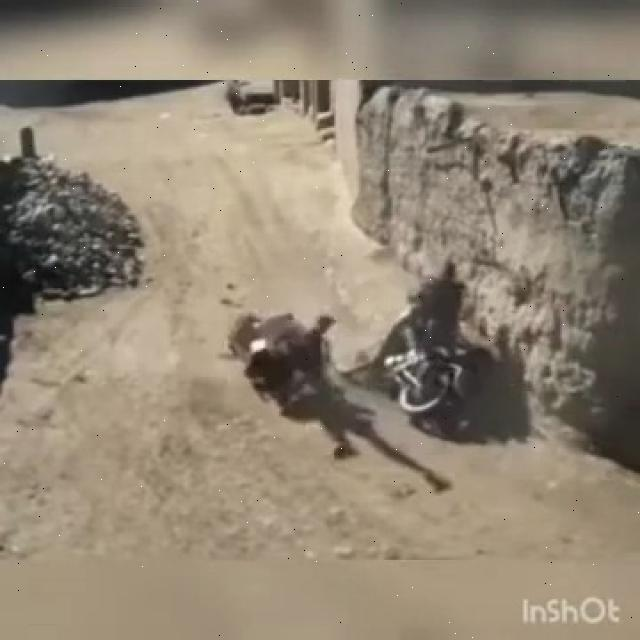accident: (377, 267, 482, 431), (240, 290, 340, 398)
